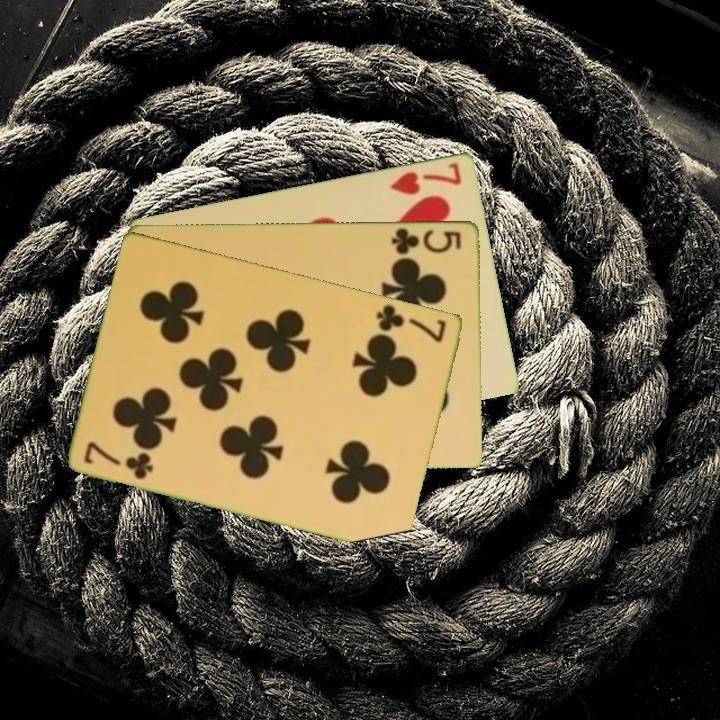5c: (388, 224, 465, 257)
7c: (373, 300, 450, 345), (80, 437, 157, 482)
7h: (387, 158, 465, 198)
